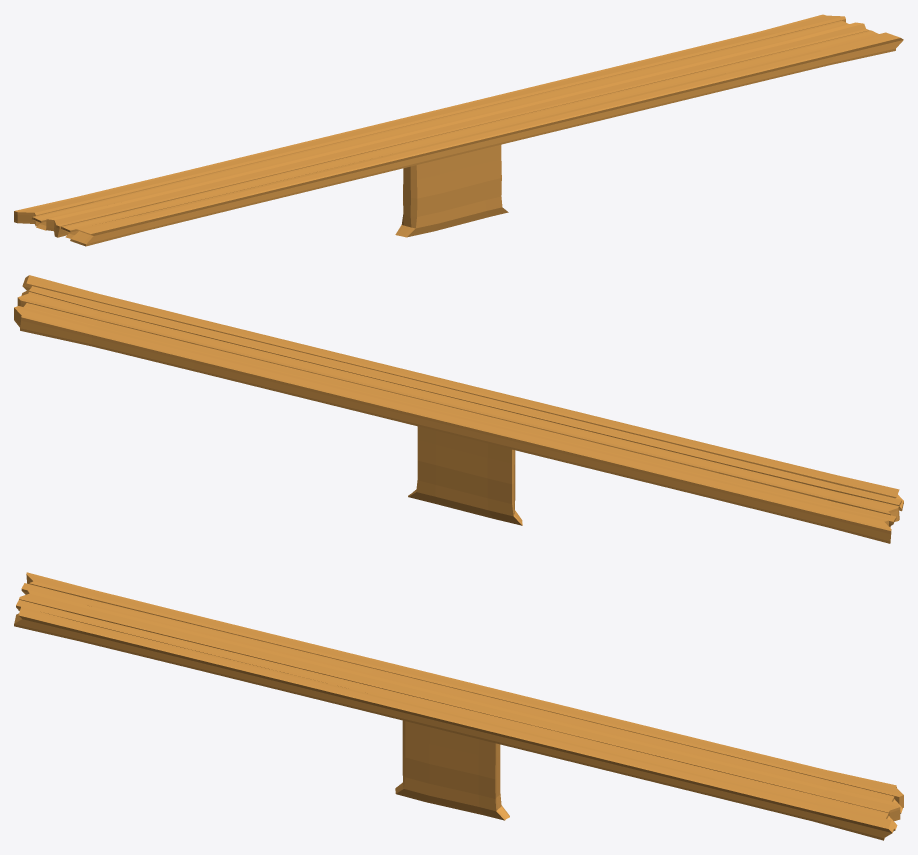
File: floor.fbx
3 renders of one model, top to bottom at view 1: azimuth 30°, elevation 25°; view 2: azimuth 150°, elevation 25°; view 3: azimuth 330°, elevation 25°, orthographic. The views are drawn at different scales.
Parts seen in each view (by area): view 1: floor; view 2: floor; view 3: floor.
Boxes of the visible parts, box(x1,y1,x2,y2) form: floor: box(14, 14, 903, 246); floor: box(14, 275, 903, 543); floor: box(14, 572, 903, 840).
Size of the model in its own units: 2620 by 292 by 238.
